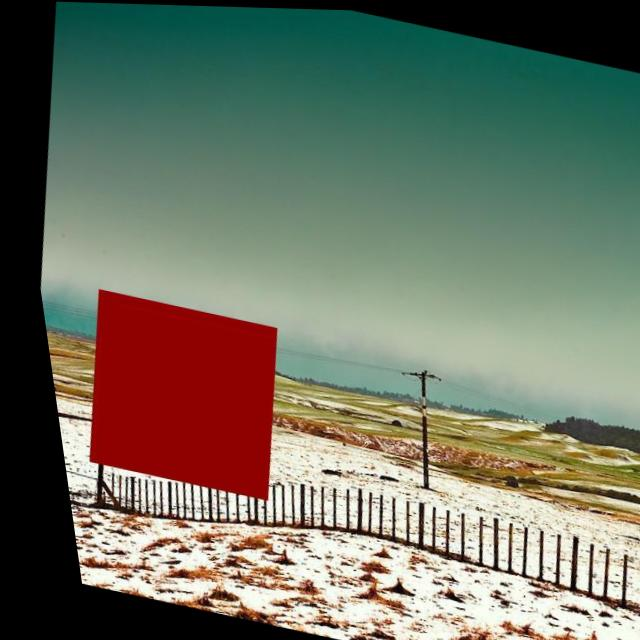RedSquare: (50, 279, 305, 517)
